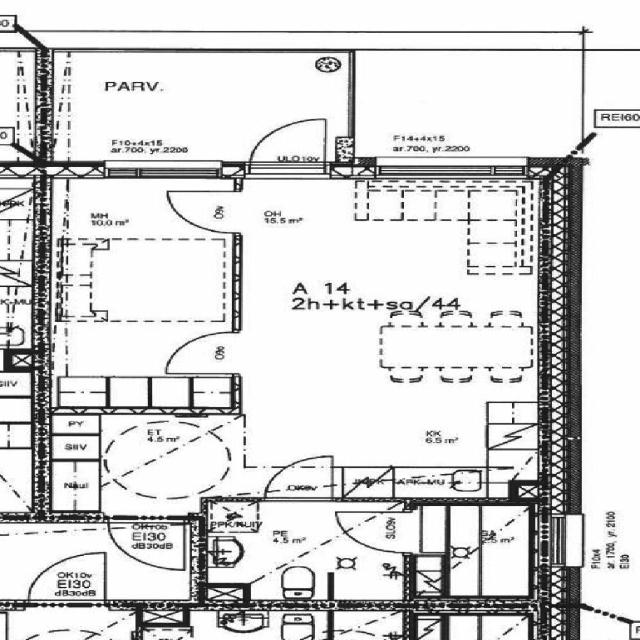door: (249, 114, 325, 178), (108, 512, 185, 570), (264, 456, 332, 502), (338, 512, 416, 552), (165, 192, 241, 233), (166, 334, 241, 374)
